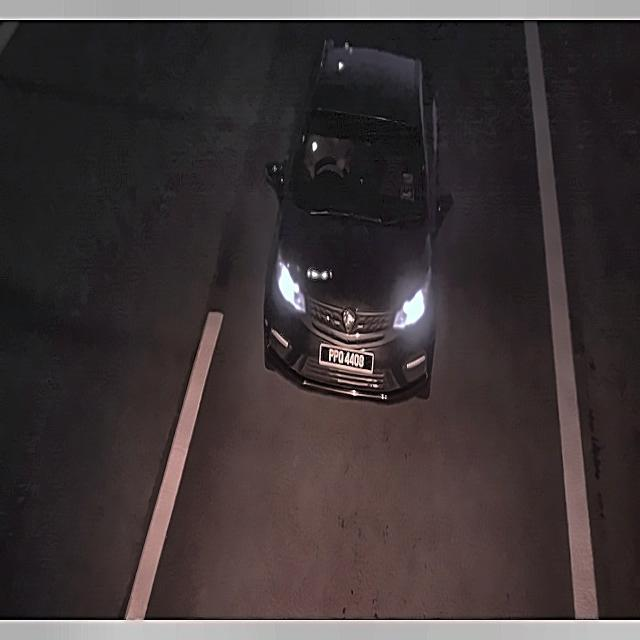car: (316, 335, 378, 379)
